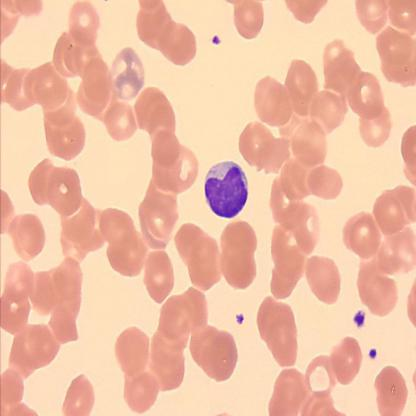Lymphocyte: (204, 158, 249, 219)
